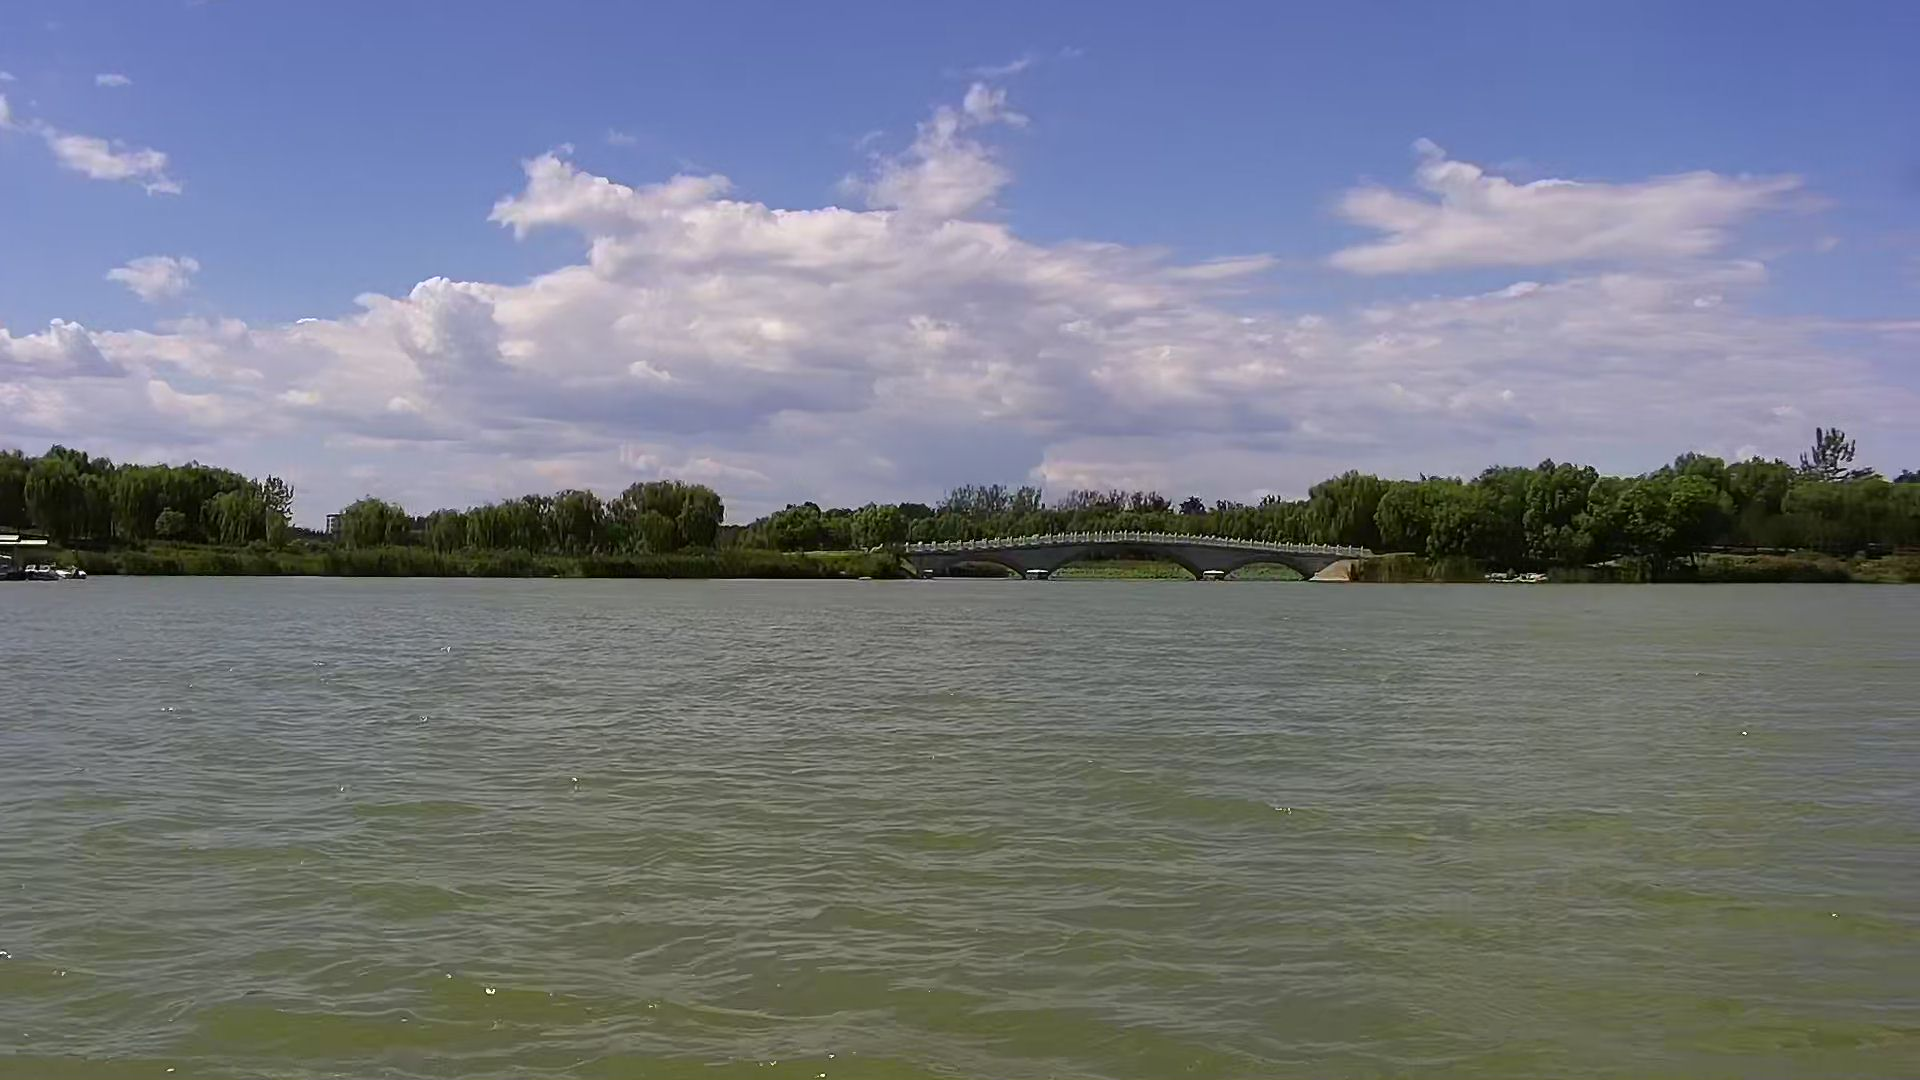bridge: (899, 530, 1364, 583)
